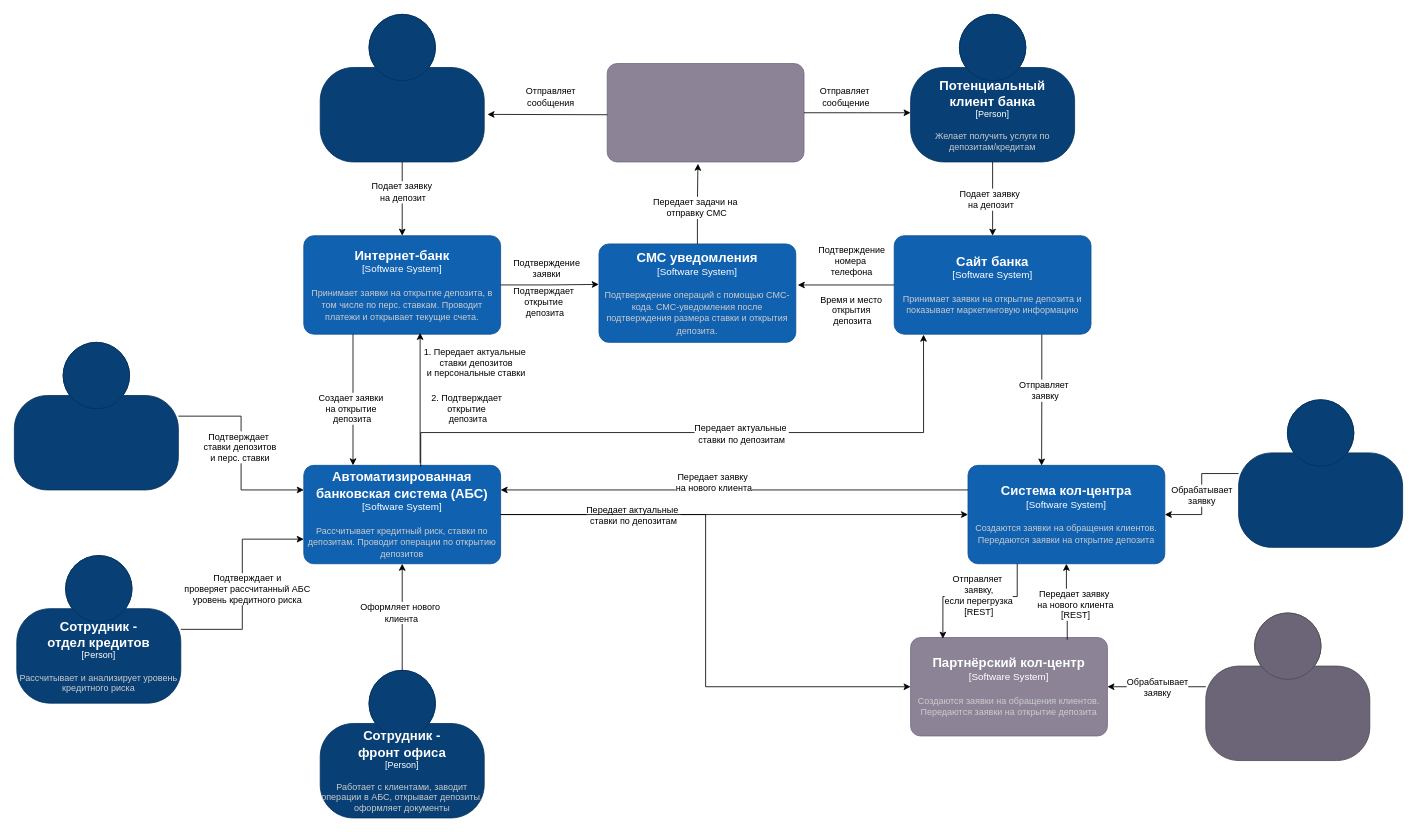
This 1417x832 diagram has some shape labels left out. Each missing label, with the box of its shape:
Клиент банка [Person] Получает услуги по депозитам/кредитам: (319, 14, 484, 162)
Сотрудник - отдел депозитов [Person] Согласовывает ставку по депозитам.: (14, 342, 178, 490)
Сотрудник кол-центра банка [Person] Консультирует клиентов банка: (1238, 399, 1403, 547)
Сотрудник партнёрского кол-центра [Person] Консультирует клиентов банка: (1205, 612, 1370, 761)
Телеком оператор [Software System] Отправляет сообщения: (606, 63, 804, 162)
